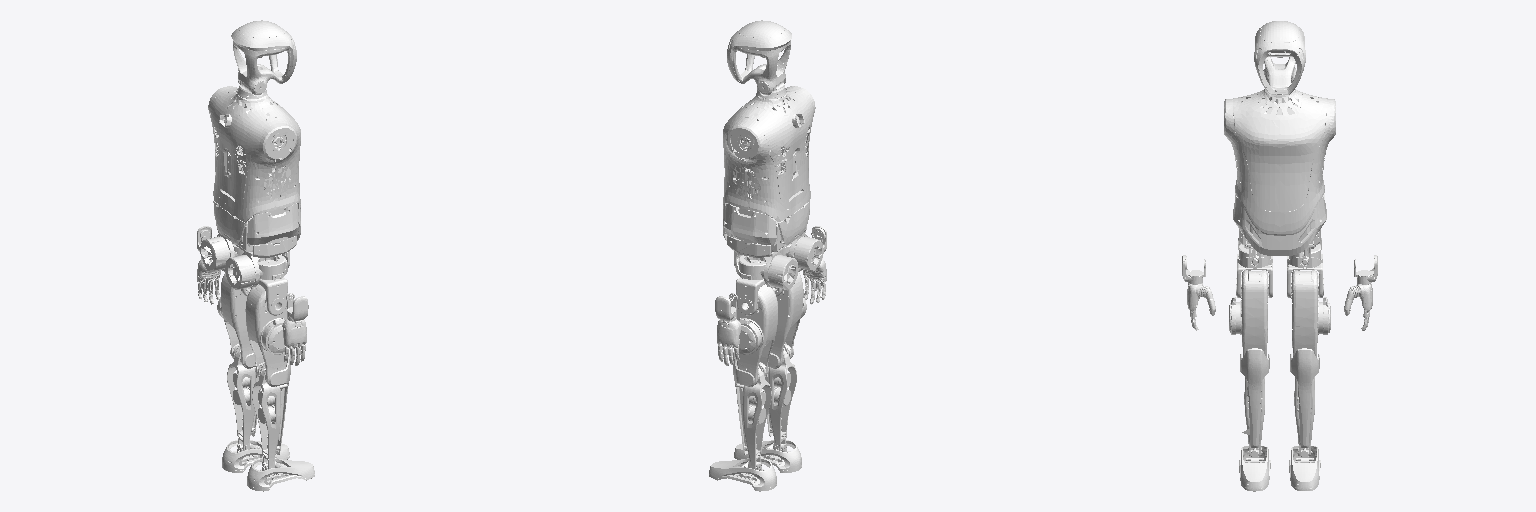
--- What the picture shows (computed from the rendered views, not written in the file) ---
3 views of the same robot in one strip: view 1: azimuth 30°, elevation 25°; view 2: azimuth 150°, elevation 25°; view 3: azimuth 270°, elevation 25° (orthographic).
Model biped_s45 with 47 links and 46 joints (28 revolute, 18 fixed), rooted at dummy_link, posed all joints at 0.
Links seen in each view (by area): view 1: base_link, zhead_2_link, leg_r3_link, leg_r4_link, leg_l4_link, leg_l3_link, leg_r6_link, zarm_r7_link, leg_l6_link, zarm_l7_link, leg_r2_link, leg_r1_link; view 2: base_link, zhead_2_link, leg_l3_link, leg_l4_link, leg_r4_link, leg_r3_link, leg_l6_link, zarm_l7_link, leg_r6_link, zarm_r7_link, leg_l2_link, leg_l1_link; view 3: base_link, zhead_2_link, leg_r3_link, leg_l3_link, leg_r4_link, leg_l4_link, leg_r6_link, leg_l6_link, zarm_r7_link, zarm_l7_link.
Link boxes in pixels (<box>): base_link: <box>200,86,300,289</box>; zhead_2_link: <box>231,20,296,94</box>; leg_r3_link: <box>245,284,290,386</box>; leg_r4_link: <box>252,350,290,468</box>; leg_l4_link: <box>227,344,260,450</box>; leg_l3_link: <box>217,272,252,368</box>; leg_r6_link: <box>247,459,314,491</box>; zarm_r7_link: <box>282,293,308,365</box>; leg_l6_link: <box>222,440,289,472</box>; zarm_l7_link: <box>197,226,224,304</box>; leg_r2_link: <box>250,277,287,315</box>; leg_r1_link: <box>257,255,287,279</box>; base_link: <box>723,86,823,289</box>; zhead_2_link: <box>727,20,791,94</box>; leg_l3_link: <box>733,284,777,386</box>; leg_l4_link: <box>733,351,771,468</box>; leg_r4_link: <box>763,344,796,450</box>; leg_r3_link: <box>771,272,806,368</box>; leg_l6_link: <box>709,459,776,491</box>; zarm_l7_link: <box>715,293,740,365</box>; leg_r6_link: <box>734,440,801,472</box>; zarm_r7_link: <box>798,226,826,304</box>; leg_l2_link: <box>736,277,772,315</box>; leg_l1_link: <box>736,255,766,279</box>; base_link: <box>1224,89,1335,268</box>; zhead_2_link: <box>1254,21,1305,94</box>; leg_r3_link: <box>1229,270,1268,357</box>; leg_l3_link: <box>1291,270,1330,357</box>; leg_r4_link: <box>1240,348,1269,455</box>; leg_l4_link: <box>1290,348,1319,455</box>; leg_r6_link: <box>1239,446,1270,491</box>; leg_l6_link: <box>1289,446,1320,490</box>; zarm_r7_link: <box>1182,255,1215,330</box>; zarm_l7_link: <box>1344,255,1377,330</box>.
Size in the robot's own frame: 0.318 by 0.6798 by 1.71 metres.
17 mesh visuals loaded from 32 distinct referenced files (17 binary STL); not drawn: 15 (reference not matched to a file when rendering).

The robot description file, URDF, robot "biped_s45":
<?xml version='1.0' encoding='utf-8'?>
<robot name="biped_s45">
  <mujoco>
    <compiler meshdir="../meshes/" balanceinertia="true" discardvisual="false" />
  </mujoco>
  <link name="dummy_link" />
  <link name="base_link">
    <inertial>
      <origin xyz="-0.0185005 0.00031952 0.1929569" rpy="0 0 0" />
      <mass value="22.11293803" />
      <inertia ixx="0.93103133" ixy="0.00011763" ixz="-0.07210993" iyy="0.82590532" iyz="6.88e-06" izz="0.27686612" />
    </inertial>
    <visual>
      <origin xyz="0 0 0" rpy="0 0 0" />
      <geometry>
        <mesh filename="package://kuavo_assets/models/biped_s45/meshes/torso.STL" />
      </geometry>
      <material name="">
        <color rgba="1 1 1 1" />
      </material>
    </visual>
  </link>
  <joint name="dummy_to_base_link" type="fixed">
    <origin xyz="0 0 0" rpy="0 0 0" />
    <parent link="dummy_link" />
    <child link="base_link" />
  </joint>
  <link name="leg_l1_link">
    <inertial>
      <origin xyz="-0.00430148 -2.708e-05 -0.00851195" rpy="0 0 0" />
      <mass value="1.71093115" />
      <inertia ixx="0.00206092" ixy="1.97e-06" ixz="6.944e-05" iyy="0.00277274" iyz="-5.1e-06" izz="0.00370826" />
    </inertial>
    <visual>
      <origin xyz="0 0 0" rpy="0 0 0" />
      <geometry>
        <mesh filename="package://kuavo_assets/models/biped_s45/meshes/l_leg_roll.STL" />
      </geometry>
      <material name="">
        <color rgba="1 1 1 1" />
      </material>
    </visual>
  </link>
  <joint name="leg_l1_joint" type="revolute">
    <origin xyz="-0.0024999 0.087 -0.066" rpy="0 0 0" />
    <parent link="base_link" />
    <child link="leg_l1_link" />
    <axis xyz="1 0 0" />
    <limit lower="-0.314159265358979" upper="0.663225115757845" effort="180.0" velocity="23.55" />
  </joint>
  <link name="leg_l2_link">
    <inertial>
      <origin xyz="0.0 -0.00231118 -0.09062539" rpy="0 0 0" />
      <mass value="0.58029165" />
      <inertia ixx="0.00223984" ixy="0.0" ixz="3e-08" iyy="0.00123175" iyz="-6.98e-06" izz="0.00146391" />
    </inertial>
    <visual>
      <origin xyz="0 0 0" rpy="0 0 0" />
      <geometry>
        <mesh filename="package://kuavo_assets/models/biped_s45/meshes/l_leg_yaw.STL" />
      </geometry>
      <material name="">
        <color rgba="1 1 1 1" />
      </material>
    </visual>
  </link>
  <joint name="leg_l2_joint" type="revolute">
    <origin xyz="0 0 0" rpy="0 0 0" />
    <parent link="leg_l1_link" />
    <child link="leg_l2_link" />
    <axis xyz="0 0 1" />
    <limit lower="-0.872664625997165" upper="0.785398163397448" effort="100.0" velocity="41.3433333333333" />
  </joint>
  <link name="leg_l3_link">
    <inertial>
      <origin xyz="0.00150537 0.01199614 -0.08411619" rpy="0 0 0" />
      <mass value="4.50393141" />
      <inertia ixx="0.0389365" ixy="7.866e-05" ixz="0.00102086" iyy="0.03942609" iyz="0.00219138" izz="0.00999961" />
    </inertial>
    <visual>
      <origin xyz="0 0 0" rpy="0 0 0" />
      <geometry>
        <mesh filename="package://kuavo_assets/models/biped_s45/meshes/l_leg_pitch.STL" />
      </geometry>
      <material name="">
        <color rgba="1 1 1 1" />
      </material>
    </visual>
  </link>
  <joint name="leg_l3_joint" type="revolute">
    <origin xyz="0.000500354536093913 -0.00100000000000011 -0.1287" rpy="0 0 0" />
    <parent link="leg_l2_link" />
    <child link="leg_l3_link" />
    <axis xyz="0 1 0" />
    <limit lower="-2.00712863979348" upper="1.5707963267949" effort="100.0" velocity="41.3433333333333" />
  </joint>
  <link name="leg_l4_link">
    <inertial>
      <origin xyz="0.00696242 5.314e-05 -0.11549851" rpy="0 0 0" />
      <mass value="1.62776815" />
      <inertia ixx="0.01243912" ixy="-2.29e-06" ixz="5.881e-05" iyy="0.01229563" iyz="-2.895e-05" izz="0.00097937" />
    </inertial>
    <visual>
      <origin xyz="0 0 0" rpy="0 0 0" />
      <geometry>
        <mesh filename="package://kuavo_assets/models/biped_s45/meshes/l_knee.STL" />
      </geometry>
      <material name="">
        <color rgba="1 1 1 1" />
      </material>
    </visual>
  </link>
  <joint name="leg_l4_joint" type="revolute">
    <origin xyz="-6.87185435835039E-05 0 -0.284" rpy="0 0 0" />
    <parent link="leg_l3_link" />
    <child link="leg_l4_link" />
    <axis xyz="0 1 0" />
    <limit lower="0.0" upper="2.53072741539178" effort="180.0" velocity="23.55" />
  </joint>
  <link name="leg_l5_link">
    <inertial>
      <origin xyz="0.0 0.0 0.0" rpy="0 0 0" />
      <mass value="0.07193524" />
      <inertia ixx="6.92e-06" ixy="0.0" ixz="0.0" iyy="6.92e-06" iyz="0.0" izz="1.218e-05" />
    </inertial>
    <visual>
      <origin xyz="0 0 0" rpy="0 0 0" />
      <geometry>
        <mesh filename="package://kuavo_assets/models/biped_s45/meshes/l_foot_pitch.STL" />
      </geometry>
      <material name="">
        <color rgba="1 1 1 1" />
      </material>
    </visual>
  </link>
  <joint name="leg_l5_joint" type="revolute">
    <origin xyz="-0.000431635992531742 0 -0.346000000000001" rpy="0 0 0" />
    <parent link="leg_l4_link" />
    <child link="leg_l5_link" />
    <axis xyz="0 1 0" />
    <limit lower="-0.872664625997165" upper="0.349065850398866" effort="36.0" velocity="23.0266666666667" />
  </joint>
  <link name="leg_l6_link">
    <inertial>
      <origin xyz="0.03732754 -2.22e-06 -0.03883977" rpy="0 0 0" />
      <mass value="0.49861272" />
      <inertia ixx="0.00039242" ixy="3e-08" ixz="4.664e-05" iyy="0.00158655" iyz="0.0" izz="0.00172576" />
    </inertial>
    <visual>
      <origin xyz="0 0 0" rpy="0 0 0" />
      <geometry>
        <mesh filename="package://kuavo_assets/models/biped_s45/meshes/l_foot_roll.STL" />
      </geometry>
      <material name="">
        <color rgba="1 1 1 1" />
      </material>
    </visual>
    <collision>
    	<origin xyz="0.0488 0 0" rpy="0 0 0"/>
	    <geometry>
		    <box size="0.25 0.1 0.04"/>
	    </geometry>
    </collision>
  </link>
  <joint name="leg_l6_joint" type="revolute">
    <origin xyz="0 0 0" rpy="0 0 0" />
    <parent link="leg_l5_link" />
    <child link="leg_l6_link" />
    <axis xyz="1 0 0" />
    <limit lower="-0.261799387799149" upper="0.261799387799149" effort="36.0" velocity="23.0266666666667" />
  </joint>
  <link name="ll_foot_toe">
    <collision>
      <origin rpy="0 0 0" xyz="0 0 0" />
      <geometry>
        <sphere radius="0.005" />
      </geometry>
    </collision>
  </link>
  <joint name="ll_foot_toe_joint" type="fixed">
    <origin xyz="0.17084 0.04773 -0.0595" rpy="0 0 0" />
    <parent link="leg_l6_link" />
    <child link="ll_foot_toe" />
  </joint>
  <link name="ll_foot_heel">
    <collision>
      <origin rpy="0 0 0" xyz="0 0 0" />
      <geometry>
        <sphere radius="0.005" />
      </geometry>
    </collision>
  </link>
  <joint name="ll_foot_heel_joint" type="fixed">
    <origin xyz="-0.073164 0.04773 -0.0595" rpy="0 0 0" />
    <parent link="leg_l6_link" />
    <child link="ll_foot_heel" />
  </joint>
  <link name="lr_foot_toe">
    <collision>
      <origin rpy="0 0 0" xyz="0 0 0" />
      <geometry>
        <sphere radius="0.005" />
      </geometry>
    </collision>
  </link>
  <joint name="lr_foot_toe_joint" type="fixed">
    <origin xyz="0.17084 -0.04773 -0.0595" rpy="0 0 0" />
    <parent link="leg_l6_link" />
    <child link="lr_foot_toe" />
  </joint>
  <link name="lr_foot_heel">
    <collision>
      <origin rpy="0 0 0" xyz="0 0 0" />
      <geometry>
        <sphere radius="0.005" />
      </geometry>
    </collision>
  </link>
  <joint name="lr_foot_heel_joint" type="fixed">
    <origin xyz="-0.073164 -0.04773 -0.0595" rpy="0 0 0" />
    <parent link="leg_l6_link" />
    <child link="lr_foot_heel" />
  </joint>
  <link name="l_foot_toe">
    <collision>
      <origin rpy="0 0 0" xyz="0 0 0" />
      <geometry>
        <sphere radius="0.005" />
      </geometry>
    </collision>
  </link>
  <joint name="l_foot_toe_joint" type="fixed">
    <origin xyz="0.17084 0.0 -0.0595" rpy="0 0 0" />
    <parent link="leg_l6_link" />
    <child link="l_foot_toe" />
  </joint>
  <link name="l_foot_heel">
    <collision>
      <origin rpy="0 0 0" xyz="0 0 0" />
      <geometry>
        <sphere radius="0.005" />
      </geometry>
    </collision>
  </link>
  <joint name="l_foot_heel_joint" type="fixed">
    <origin xyz="-0.073164 0.0 -0.0595" rpy="0 0 0" />
    <parent link="leg_l6_link" />
    <child link="l_foot_heel" />
  </joint>
  <link name="leg_r1_link">
    <inertial>
      <origin xyz="-0.00430146 2.709e-05 -0.00851195" rpy="0 0 0" />
      <mass value="1.71093008" />
      <inertia ixx="0.00206092" ixy="-1.97e-06" ixz="6.944e-05" iyy="0.00277274" iyz="5.1e-06" izz="0.00370826" />
    </inertial>
    <visual>
      <origin xyz="0 0 0" rpy="0 0 0" />
      <geometry>
        <mesh filename="package://kuavo_assets/models/biped_s45/meshes/r_leg_roll.STL" />
      </geometry>
      <material name="">
        <color rgba="1 1 1 1" />
      </material>
    </visual>
  </link>
  <joint name="leg_r1_joint" type="revolute">
    <origin xyz="-0.0024999 -0.087 -0.066" rpy="0 0 0" />
    <parent link="base_link" />
    <child link="leg_r1_link" />
    <axis xyz="1 0 0" />
    <limit lower="-0.663225115757845" upper="0.314159265358979" effort="180.0" velocity="23.55" />
  </joint>
  <link name="leg_r2_link">
    <inertial>
      <origin xyz="0.0 0.00231118 -0.09062539" rpy="0 0 0" />
      <mass value="0.58029165" />
      <inertia ixx="0.00223984" ixy="0.0" ixz="-3e-08" iyy="0.00123175" iyz="6.98e-06" izz="0.00146391" />
    </inertial>
    <visual>
      <origin xyz="0 0 0" rpy="0 0 0" />
      <geometry>
        <mesh filename="package://kuavo_assets/models/biped_s45/meshes/r_leg_yaw.STL" />
      </geometry>
      <material name="">
        <color rgba="1 1 1 1" />
      </material>
    </visual>
  </link>
  <joint name="leg_r2_joint" type="revolute">
    <origin xyz="0 0 0" rpy="0 0 0" />
    <parent link="leg_r1_link" />
    <child link="leg_r2_link" />
    <axis xyz="0 0 1" />
    <limit lower="-0.785398163397448" upper="0.872664625997165" effort="100.0" velocity="41.3433333333333" />
  </joint>
  <link name="leg_r3_link">
    <inertial>
      <origin xyz="0.00208315 -0.01199644 -0.08411379" rpy="0 0 0" />
      <mass value="4.50385993" />
      <inertia ixx="0.03893478" ixy="-7.792e-05" ixz="0.00103064" iyy="0.03942522" iyz="-0.00219154" izz="0.01000016" />
    </inertial>
    <visual>
      <origin xyz="0 0 0" rpy="0 0 0" />
      <geometry>
        <mesh filename="package://kuavo_assets/models/biped_s45/meshes/r_leg_pitch.STL" />
      </geometry>
      <material name="">
        <color rgba="1 1 1 1" />
      </material>
    </visual>
  </link>
  <joint name="leg_r3_joint" type="revolute">
    <origin xyz="-4.88006581312577E-05 0 -0.1287" rpy="0 0 0" />
    <parent link="leg_r2_link" />
    <child link="leg_r3_link" />
    <axis xyz="0 1 0" />
    <limit lower="-2.00712863979348" upper="1.5707963267949" effort="100.0" velocity="41.3433333333333" />
  </joint>
  <link name="leg_r4_link">
    <inertial>
      <origin xyz="0.00743231 -5.343e-05 -0.11558701" rpy="0 0 0" />
      <mass value="1.62655699" />
      <inertia ixx="0.01241258" ixy="2.28e-06" ixz="6.289e-05" iyy="0.0122692" iyz="2.902e-05" izz="0.00097927" />
    </inertial>
    <visual>
      <origin xyz="0 0 0" rpy="0 0 0" />
      <geometry>
        <mesh filename="package://kuavo_assets/models/biped_s45/meshes/r_knee.STL" />
      </geometry>
      <material name="">
        <color rgba="1 1 1 1" />
      </material>
    </visual>
  </link>
  <joint name="leg_r4_joint" type="revolute">
    <origin xyz="0.000147138572785148 0 -0.283999982974744" rpy="0 0 0" />
    <parent link="leg_r3_link" />
    <child link="leg_r4_link" />
    <axis xyz="0 1 0" />
    <limit lower="0.0" upper="2.53072741539178" effort="180.0" velocity="23.55" />
  </joint>
  <link name="leg_r5_link">
    <inertial>
      <origin xyz="0.0 0.0 0.0" rpy="0 0 0" />
      <mass value="0.07193524" />
      <inertia ixx="6.92e-06" ixy="0.0" ixz="0.0" iyy="6.92e-06" iyz="0.0" izz="1.218e-05" />
    </inertial>
    <visual>
      <origin xyz="0 0 0" rpy="0 0 0" />
      <geometry>
        <mesh filename="package://kuavo_assets/models/biped_s45/meshes/r_foot_pitch.STL" />
      </geometry>
      <material name="">
        <color rgba="1 1 1 1" />
      </material>
    </visual>
  </link>
  <joint name="leg_r5_joint" type="revolute">
    <origin xyz="0.000119806050928577 0 -0.345999979257963" rpy="0 0 0" />
    <parent link="leg_r4_link" />
    <child link="leg_r5_link" />
    <axis xyz="0 1 0" />
    <limit lower="-0.872664625997165" upper="0.349065850398866" effort="36.0" velocity="23.0266666666667" />
  </joint>
  <link name="leg_r6_link">
    <inertial>
      <origin xyz="0.03734098 -2.22e-06 -0.03882684" rpy="0 0 0" />
      <mass value="0.49861272" />
      <inertia ixx="0.00039238" ixy="3e-08" ixz="4.618e-05" iyy="0.00158655" iyz="0.0" izz="0.00172579" />
    </inertial>
    <visual>
      <origin xyz="0 0 0" rpy="0 0 0" />
      <geometry>
        <mesh filename="package://kuavo_assets/models/biped_s45/meshes/r_foot_roll.STL" />
      </geometry>
      <material name="">
        <color rgba="1 1 1 1" />
      </material>
    </visual>
    <collision>
    	<origin xyz="0.0488 0 0" rpy="0 0 0"/>
	    <geometry>
		    <box size="0.25 0.1 0.04"/>
	    </geometry>
    </collision>
  </link>
  <joint name="leg_r6_joint" type="revolute">
    <origin xyz="0 0 0" rpy="0 0 0" />
    <parent link="leg_r5_link" />
    <child link="leg_r6_link" />
    <axis xyz="1 0 0" />
    <limit lower="-0.261799387799149" upper="0.261799387799149" effort="36.0" velocity="23.0266666666667" />
  </joint>
  <link name="rl_foot_toe">
    <collision>
      <origin rpy="0 0 0" xyz="0 0 0" />
      <geometry>
        <sphere radius="0.005" />
      </geometry>
    </collision>
  </link>
  <joint name="rl_foot_toe_joint" type="fixed">
    <origin xyz="0.17084 0.04773 -0.0595" rpy="0 0 0" />
    <parent link="leg_r6_link" />
    <child link="rl_foot_toe" />
  </joint>
  <link name="rl_foot_heel">
    <collision>
      <origin rpy="0 0 0" xyz="0 0 0" />
      <geometry>
        <sphere radius="0.005" />
      </geometry>
    </collision>
  </link>
  <joint name="rl_foot_heel_joint" type="fixed">
    <origin xyz="-0.073164 0.04773 -0.0595" rpy="0 0 0" />
    <parent link="leg_r6_link" />
    <child link="rl_foot_heel" />
  </joint>
  <link name="rr_foot_toe">
    <collision>
      <origin rpy="0 0 0" xyz="0 0 0" />
      <geometry>
        <sphere radius="0.005" />
      </geometry>
    </collision>
  </link>
  <joint name="rr_foot_toe_joint" type="fixed">
    <origin xyz="0.17084 -0.04773 -0.0595" rpy="0 0 0" />
    <parent link="leg_r6_link" />
    <child link="rr_foot_toe" />
  </joint>
  <link name="rr_foot_heel">
    <collision>
      <origin rpy="0 0 0" xyz="0 0 0" />
      <geometry>
        <sphere radius="0.005" />
      </geometry>
    </collision>
  </link>
  <joint name="rr_foot_heel_joint" type="fixed">
    <origin xyz="-0.073164 -0.04773 -0.0595" rpy="0 0 0" />
    <parent link="leg_r6_link" />
    <child link="rr_foot_heel" />
  </joint>
  <link name="r_foot_toe">
    <collision>
      <origin rpy="0 0 0" xyz="0 0 0" />
      <geometry>
        <sphere radius="0.005" />
      </geometry>
    </collision>
  </link>
  <joint name="r_foot_toe_joint" type="fixed">
    <origin xyz="0.17084 0.0 -0.0595" rpy="0 0 0" />
    <parent link="leg_r6_link" />
    <child link="r_foot_toe" />
  </joint>
  <link name="r_foot_heel">
    <collision>
      <origin rpy="0 0 0" xyz="0 0 0" />
      <geometry>
        <sphere radius="0.005" />
      </geometry>
    </collision>
  </link>
  <joint name="r_foot_heel_joint" type="fixed">
    <origin xyz="-0.073164 0.0 -0.0595" rpy="0 0 0" />
    <parent link="leg_r6_link" />
    <child link="r_foot_heel" />
  </joint>
  <link name="zarm_l1_link">
    <inertial>
      <origin xyz="-0.00083 -0.02218 0.00035" rpy="0 0 0" />
      <mass value="0.962" />
      <inertia ixx="0.00225" ixy="-3e-05" ixz="0.0" iyy="0.00099" iyz="-2e-05" izz="0.00227" />
    </inertial>
    <visual>
      <origin xyz="0 0 0" rpy="0 0 0" />
      <geometry>
        <mesh filename="package://kuavo_assets/models/biped_s45/meshes/l_arm_pitch.STL" />
      </geometry>
      <material name="">
        <color rgba="1 1 1 1" />
      </material>
    </visual>
  </link>
  <joint name="zarm_l1_joint" type="revolute">
    <origin xyz="-0.017499853 0.29269999999999996 0.4245" rpy="0 0 0" />
    <parent link="base_link" />
    <child link="zarm_l1_link" />
    <axis xyz="0 1 0" />
    <limit lower="-3.14159265358979" upper="1.5707963267949" effort="100.0" velocity="41.3433333333333" />
  </joint>
  <link name="zarm_l2_link">
    <inertial>
      <origin xyz="-0.00791 0.0 -0.04655" rpy="0 0 0" />
      <mass value="0.57" />
      <inertia ixx="0.00163" ixy="0.0" ixz="5e-05" iyy="0.00211" iyz="0.0" izz="0.00122" />
    </inertial>
    <visual>
      <origin xyz="0 0 0" rpy="0 0 0" />
      <geometry>
        <mesh filename="package://kuavo_assets/models/biped_s45/meshes/l_arm_roll.STL" />
      </geometry>
      <material name="">
        <color rgba="1 1 1 1" />
      </material>
    </visual>
  </link>
  <joint name="zarm_l2_joint" type="revolute">
    <origin xyz="0 0 0" rpy="0 0 0" />
    <parent link="zarm_l1_link" />
    <child link="zarm_l2_link" />
    <axis xyz="1 0 0" />
    <limit lower="-0.349065850398866" upper="2.0943951023932" effort="50.0" velocity="19.154" />
  </joint>
  <link name="zarm_l3_link">
    <inertial>
      <origin xyz="0.00628 0.00107 -0.20878" rpy="0 0 0" />
      <mass value="1.65" />
      <inertia ixx="0.00815" ixy="-4e-05" ixz="0.00085" iyy="0.00828" iyz="0.00014" izz="0.00206" />
    </inertial>
    <visual>
      <origin xyz="0 0 0" rpy="0 0 0" />
      <geometry>
        <mesh filename="package://kuavo_assets/models/biped_s45/meshes/l_arm_yaw.STL" />
      </geometry>
      <material name="">
        <color rgba="1 1 1 1" />
      </material>
    </visual>
  </link>
  <joint name="zarm_l3_joint" type="revolute">
    <origin xyz="0 0 0" rpy="0 0 0" />
    <parent link="zarm_l2_link" />
    <child link="zarm_l3_link" />
    <axis xyz="0 0 1" />
    <limit lower="-1.5707963267949" upper="1.5707963267949" effort="39.0" velocity="18.84" />
  </joint>
  <link name="zarm_l4_link">
    <inertial>
      <origin xyz="-0.01611 0.00143 -0.04857" rpy="0 0 0" />
      <mass value="0.429" />
      <inertia ixx="0.00135" ixy="0.0" ixz="-0.0001" iyy="0.00114" iyz="0.0" izz="0.00083" />
    </inertial>
    <visual>
      <origin xyz="0 0 0" rpy="0 0 0" />
      <geometry>
        <mesh filename="package://kuavo_assets/models/biped_s45/meshes/l_forearm.STL" />
      </geometry>
      <material name="">
        <color rgba="1 1 1 1" />
      </material>
    </visual>
  </link>
  <joint name="zarm_l4_joint" type="revolute">
    <origin xyz="0.0200000000000006 0 -0.283699999999996" rpy="0 0 0" />
    <parent link="zarm_l3_link" />
    <child link="zarm_l4_link" />
    <axis xyz="0 1 0" />
    <limit lower="-2.61799387799149" upper="0.0" effort="50.0" velocity="18.84" />
  </joint>
  <link name="zarm_l5_link">
    <inertial>
      <origin xyz="-0.00207 0.00018 -0.05079" rpy="0 0 0" />
      <mass value="0.61" />
      <inertia ixx="0.00107" ixy="0.0" ixz="-4e-05" iyy="0.00146" iyz="0.0" izz="0.00083" />
    </inertial>
    <visual>
      <origin xyz="0 0 0" rpy="0 0 0" />
      <geometry>
        <mesh filename="package://kuavo_assets/models/biped_s45/meshes/l_hand_yaw.STL" />
      </geometry>
      <material name="">
        <color rgba="1 1 1 1" />
      </material>
    </visual>
  </link>
  <joint name="zarm_l5_joint" type="revolute">
    <origin xyz="-0.0200000000000025 0 -0.127037274261591" rpy="0 0 0" />
    <parent link="zarm_l4_link" />
    <child link="zarm_l5_link" />
    <axis xyz="0 0 1" />
    <limit lower="-1.5707963267949" upper="1.5707963267949" effort="12.0" velocity="21.666" />
  </joint>
  <link name="zarm_l6_link">
    <inertial>
      <origin xyz="-0.00111 0.00335 -0.01335" rpy="0 0 0" />
      <mass value="0.331" />
      <inertia ixx="0.00022" ixy="0.0" ixz="0.0" iyy="0.00027" iyz="0.0" izz="0.00028" />
    </inertial>
    <visual>
      <origin xyz="0 0 0" rpy="0 0 0" />
      <geometry>
        <mesh filename="package://kuavo_assets/models/biped_s45/meshes/l_hand_roll.STL" />
      </geometry>
      <material name="">
        <color rgba="1 1 1 1" />
      </material>
    </visual>
  </link>
  <joint name="zarm_l6_joint" type="revolute">
    <origin xyz="0.000199999999999079 0 -0.106462725738415" rpy="0 0 0" />
    <parent link="zarm_l5_link" />
    <child link="zarm_l6_link" />
    <axis xyz="1 0 0" />
    <limit lower="-1.30899693899575" upper="0.698131700797732" effort="12.0" velocity="21.666" />
  </joint>
  <link name="zarm_l7_link">
    <inertial>
      <origin xyz="0.00186 0.01014 -0.09044" rpy="0 0 0" />
      <mass value="0.64" />
      <inertia ixx="0.00071" ixy="1e-05" ixz="2e-05" iyy="0.0007" iyz="-4e-05" izz="0.00012" />
    </inertial>
    <visual>
      <origin xyz="0 0 0" rpy="0 0 0" />
      <geometry>
        <mesh filename="package://kuavo_assets/models/biped_s45/meshes/l_hand_pitch.STL" />
      </geometry>
      <material name="">
        <color rgba="1 1 1 1" />
      </material>
    </visual>
  </link>
  <joint name="zarm_l7_joint" type="revolute">
    <origin xyz="0 0 -0.0210004653879916" rpy="0 0 0" />
    <parent link="zarm_l6_link" />
    <child link="zarm_l7_link" />
    <axis xyz="0 1 0" />
    <limit lower="-0.698131700797732" upper="0.698131700797732" effort="12.0" velocity="21.666" />
  </joint>
  <link name="zarm_l7_end_effector">
    <collision>
      <origin rpy="0 0 0" xyz="0 0 0" />
      <geometry>
        <sphere radius="0.005" />
      </geometry>
    </collision>
  </link>
  <joint name="zarm_l7_end_effector_joint" type="fixed">
    <origin xyz="0 -0.03 -0.17" rpy="0 0 0" />
    <parent link="zarm_l7_link" />
    <child link="zarm_l7_end_effector" />
  </joint>
  <link name="zarm_r1_link">
    <inertial>
      <origin xyz="-0.00083 0.02218 0.00035" rpy="0 0 0" />
      <mass value="0.962" />
      <inertia ixx="0.00225" ixy="3e-05" ixz="0.0" iyy="0.00099" iyz="2e-05" izz="0.00227" />
    </inertial>
    <visual>
      <origin xyz="0 0 0" rpy="0 0 0" />
      <geometry>
        <mesh filename="package://kuavo_assets/models/biped_s45/meshes/r_arm_pitch.STL" />
      </geometry>
      <material name="">
        <color rgba="1 1 1 1" />
      </material>
    </visual>
  </link>
  <joint name="zarm_r1_joint" type="revolute">
    <origin xyz="-0.017499853 -0.29269999999999996 0.4245" rpy="0 0 0" />
    <parent link="base_link" />
    <child link="zarm_r1_link" />
    <axis xyz="0 1 0" />
    <limit lower="-3.14159265358979" upper="1.5707963267949" effort="100.0" velocity="41.3433333333333" />
  </joint>
  <link name="zarm_r2_link">
    <inertial>
      <origin xyz="-0.00791 0.0 -0.04655" rpy="0 0 0" />
      <mass value="0.57" />
      <inertia ixx="0.00163" ixy="0.0" ixz="5e-05" iyy="0.00211" iyz="0.0" izz="0.00122" />
    </inertial>
    <visual>
      <origin xyz="0 0 0" rpy="0 0 0" />
      <geometry>
        <mesh filename="package://kuavo_assets/models/biped_s45/meshes/r_arm_roll.STL" />
      </geometry>
      <material name="">
        <color rgba="1 1 1 1" />
      </material>
    </visual>
  </link>
  <joint name="zarm_r2_joint" type="revolute">
    <origin xyz="0 0 0" rpy="0 0 0" />
    <parent link="zarm_r1_link" />
    <child link="zarm_r2_link" />
    <axis xyz="1 0 0" />
    <limit lower="-2.0943951023932" upper="0.349065850398866" effort="50.0" velocity="19.154" />
  </joint>
  <link name="zarm_r3_link">
    <inertial>
      <origin xyz="0.00628 -0.00107 -0.20878" rpy="0 0 0" />
      <mass value="1.65" />
      <inertia ixx="0.00815" ixy="4e-05" ixz="0.00085" iyy="0.00828" iyz="-0.00014" izz="0.00206" />
    </inertial>
    <visual>
      <origin xyz="0 0 0" rpy="0 0 0" />
      <geometry>
        <mesh filename="package://kuavo_assets/models/biped_s45/meshes/r_arm_yaw.STL" />
      </geometry>
      <material name="">
        <color rgba="1 1 1 1" />
      </material>
    </visual>
  </link>
  <joint name="zarm_r3_joint" type="revolute">
    <origin xyz="0 0 0" rpy="0 0 0" />
    <parent link="zarm_r2_link" />
    <child link="zarm_r3_link" />
    <axis xyz="0 0 1" />
    <limit lower="-1.5707963267949" upper="1.5707963267949" effort="39.0" velocity="18.84" />
  </joint>
  <link name="zarm_r4_link">
    <inertial>
      <origin xyz="-0.01611 -0.00143 -0.04857" rpy="0 0 0" />
      <mass value="0.429" />
      <inertia ixx="0.00135" ixy="0.0" ixz="-0.0001" iyy="0.00114" iyz="0.0" izz="0.00083" />
    </inertial>
    <visual>
      <origin xyz="0 0 0" rpy="0 0 0" />
      <geometry>
        <mesh filename="package://kuavo_assets/models/biped_s45/meshes/r_forearm.STL" />
      </geometry>
      <material name="">
        <color rgba="1 1 1 1" />
      </material>
    </visual>
  </link>
  <joint name="zarm_r4_joint" type="revolute">
    <origin xyz="0.0200000000000024 0 -0.2837" rpy="0 0 0" />
    <parent link="zarm_r3_link" />
    <child link="zarm_r4_link" />
    <axis xyz="0 1 0" />
    <limit lower="-2.61799387799149" upper="0.0" effort="50.0" velocity="18.84" />
  </joint>
  <link name="zarm_r5_link">
    <inertial>
      <origin xyz="-0.00207 -0.00018 -0.05079" rpy="0 0 0" />
      <mass value="0.61" />
      <inertia ixx="0.00107" ixy="0.0" ixz="-4e-05" iyy="0.00146" iyz="0.0" izz="0.00083" />
    </inertial>
    <visual>
      <origin xyz="0 0 0" rpy="0 0 0" />
      <geometry>
        <mesh filename="package://kuavo_assets/models/biped_s45/meshes/r_hand_yaw.STL" />
      </geometry>
      <material name="">
        <color rgba="1 1 1 1" />
      </material>
    </visual>
  </link>
  <joint name="zarm_r5_joint" type="revolute">
    <origin xyz="-0.0200000000000001 0 -0.127037274261587" rpy="0 0 0" />
    <parent link="zarm_r4_link" />
    <child link="zarm_r5_link" />
    <axis xyz="0 0 1" />
    <limit lower="-1.5707963267949" upper="1.5707963267949" effort="12.0" velocity="21.666" />
  </joint>
  <link name="zarm_r6_link">
    <inertial>
      <origin xyz="-0.00111 -0.00335 -0.01335" rpy="0 0 0" />
      <mass value="0.331" />
      <inertia ixx="0.00022" ixy="0.0" ixz="0.0" iyy="0.00027" iyz="0.0" izz="0.00028" />
    </inertial>
    <visual>
      <origin xyz="0 0 0" rpy="0 0 0" />
      <geometry>
        <mesh filename="package://kuavo_assets/models/biped_s45/meshes/r_hand_roll.STL" />
      </geometry>
      <material name="">
        <color rgba="1 1 1 1" />
      </material>
    </visual>
  </link>
  <joint name="zarm_r6_joint" type="revolute">
    <origin xyz="0 0 -0.106462725738415" rpy="0 0 0" />
    <parent link="zarm_r5_link" />
    <child link="zarm_r6_link" />
    <axis xyz="1 0 0" />
    <limit lower="-0.698131700797732" upper="1.30899693899575" effort="12.0" velocity="21.666" />
  </joint>
  <link name="zarm_r7_link">
    <inertial>
      <origin xyz="0.00186 -0.01014 -0.09044" rpy="0 0 0" />
      <mass value="0.64" />
      <inertia ixx="0.00069" ixy="-1e-05" ixz="2e-05" iyy="0.00068" iyz="5e-05" izz="0.00012" />
    </inertial>
    <visual>
      <origin xyz="0 0 0" rpy="0 0 0" />
      <geometry>
        <mesh filename="package://kuavo_assets/models/biped_s45/meshes/r_hand_pitch.STL" />
      </geometry>
      <material name="">
        <color rgba="1 1 1 1" />
      </material>
    </visual>
  </link>
  <joint name="zarm_r7_joint" type="revolute">
    <origin xyz="0 0 -0.0209999999999999" rpy="0 0 0" />
    <parent link="zarm_r6_link" />
    <child link="zarm_r7_link" />
    <axis xyz="0 1 0" />
    <limit lower="-0.698131700797732" upper="0.698131700797732" effort="12.0" velocity="21.666" />
  </joint>
  <link name="zarm_r7_end_effector">
    <collision>
      <origin rpy="0 0 0" xyz="0 0 0" />
      <geometry>
        <sphere radius="0.005" />
      </geometry>
    </collision>
  </link>
  <joint name="zarm_r7_end_effector_joint" type="fixed">
    <origin xyz="0 0.03 -0.17" rpy="0 0 0" />
    <parent link="zarm_r7_link" />
    <child link="zarm_r7_end_effector" />
  </joint>
  <link name="zhead_1_link">
    <inertial>
      <origin xyz="2e-05 0.00605 -0.01052" rpy="0 0 0" />
      <mass value="0.35" />
      <inertia ixx="7e-05" ixy="0.0" ixz="0.0" iyy="5e-05" iyz="0.0" izz="5e-05" />
    </inertial>
    <visual>
      <origin xyz="0 0 0" rpy="0 0 0" />
      <geometry>
        <mesh filename="package://kuavo_assets/models/biped_s45/meshes/head_yaw.STL" />
      </geometry>
      <material name="">
        <color rgba="1 1 1 1" />
      </material>
    </visual>
  </link>
  <joint name="zhead_1_joint" type="revolute">
    <origin xyz="-0.018499853 0.0 0.6014" rpy="0 0 0" />
    <parent link="base_link" />
    <child link="zhead_1_link" />
    <axis xyz="0 0 1" />
    <limit lower="-1.5707963267949" upper="1.5707963267949" effort="1.5" velocity="5.23333333333333" />
  </joint>
  <link name="zhead_2_link">
    <inertial>
      <origin xyz="0.02648 -0.00142 0.10674" rpy="0 0 0" />
      <mass value="0.5492" />
      <inertia ixx="0.00346" ixy="-3e-05" ixz="0.00017" iyy="0.00348" iyz="-7e-05" izz="0.00222" />
    </inertial>
    <visual>
      <origin xyz="0 0 0" rpy="0 0 0" />
      <geometry>
        <mesh filename="package://kuavo_assets/models/biped_s45/meshes/head_pitch.STL" />
      </geometry>
      <material name="">
        <color rgba="1 1 1 1" />
      </material>
    </visual>
  </link>
  <joint name="zhead_2_joint" type="revolute">
    <origin xyz="0 0 0" rpy="0 0 0" />
    <parent link="zhead_1_link" />
    <child link="zhead_2_link" />
    <axis xyz="0 1 0" />
    <limit lower="-0.523598775598299" upper="0.523598775598299" effort="12.0" velocity="5.23333333333333" />
  </joint>
  <link name="camera">
    <inertial>
      <origin xyz="-0.04257 -0.01736 -0.01161" rpy="0 0 0" />
      <mass value="0.047" />
      <inertia ixx="0.00065" ixy="0.0" ixz="0.00015" iyy="0.00091" iyz="0.0" izz="0.00105" />
    </inertial>
    <visual>
      <origin xyz="0 0 0" rpy="0 0 0" />
      <geometry>
        <mesh filename="package://kuavo_assets/models/biped_s45/meshes/camera.STL" />
      </geometry>
      <material name="">
        <color rgba="1 1 1 1" />
      </material>
    </visual>
  </link>
  <joint name="camera" type="fixed">
    <origin xyz="0.0967509784707853 0.0175003248712456 0.125953265112721" rpy="0 0.488692190558413 0" />
    <parent link="zhead_2_link" />
    <child link="camera" />
  </joint>

  <link
    name="camera_base">
    <inertial>
      <origin
        xyz="0.00354055659132058 0.00140392784997684 0.0124511787517705"
        rpy="0 0 0" />
      <mass
        value="0.0170256015508834" />
      <inertia
        ixx="1.0918264029313E-05"
        ixy="1.05354408167889E-07"
        ixz="1.05871497323805E-08"
        iyy="8.57178950734466E-07"
        iyz="1.64018651463453E-08"
        izz="1.02869893338382E-05" />
    </inertial>
    <visual>
      <origin
        xyz="0 0 0"
        rpy="0 0 0" />
      <geometry>
        <mesh
          filename="package://kuavo_assets/models/biped_s45/meshes/camera_base.STL" />
      </geometry>
      <material
        name="">
        <color
          rgba="1 1 1 1" />
      </material>
    </visual>
    <collision>
      <origin
        xyz="0 0 0"
        rpy="0 0 0" />
      <geometry>
        <mesh
          filename="package://kuavo_assets/models/biped_s45/meshes/camera_base.STL" />
      </geometry>
    </collision>
  </link>
  <joint
    name="camera_base"
    type="fixed">
    <origin
      xyz="0.0828919080642966 0 0.119165137551254"
      rpy="0 0.488692190558416 0" />
    <parent
      link="zhead_2_link" />
    <child
      link="camera_base" />
  </joint>

  <link name="radar">
    <inertial>
      <origin xyz="-0.00018 1e-05 0.01777" rpy="0 0 0" />
      <mass value="0.2688" />
      <inertia ixx="0.00013" ixy="0.0" ixz="0.0" iyy="0.00014" iyz="0.0" izz="0.00014" />
    </inertial>
    <visual>
      <origin xyz="0 0 0" rpy="0 0 0" />
      <geometry>
        <mesh filename="package://kuavo_assets/models/biped_s45/meshes/radar.STL" />
      </geometry>
      <material name="">
        <color rgba="1 1 1 1" />
      </material>
    </visual>
  </link>
  <joint name="radar" type="fixed">
    <origin xyz="0.0217799337881943 0 0.105417258037133" rpy="0 0.229686043245049 0" />
    <parent link="zhead_2_link" />
    <child link="radar" />
  </joint>
</robot>
